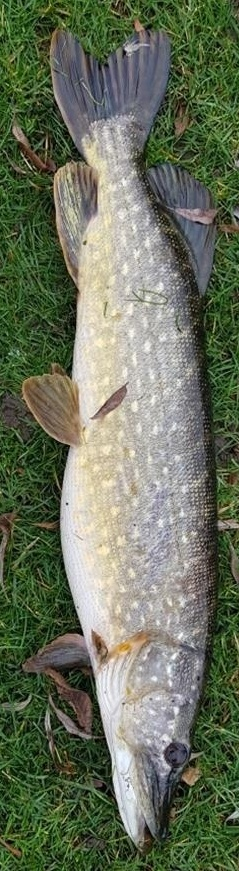Esox lucius: (20, 20, 219, 851)
